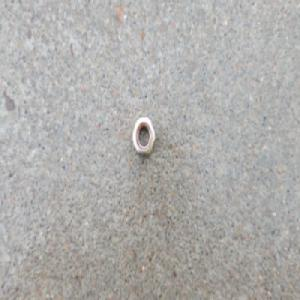Nut: (131, 114, 157, 159)
